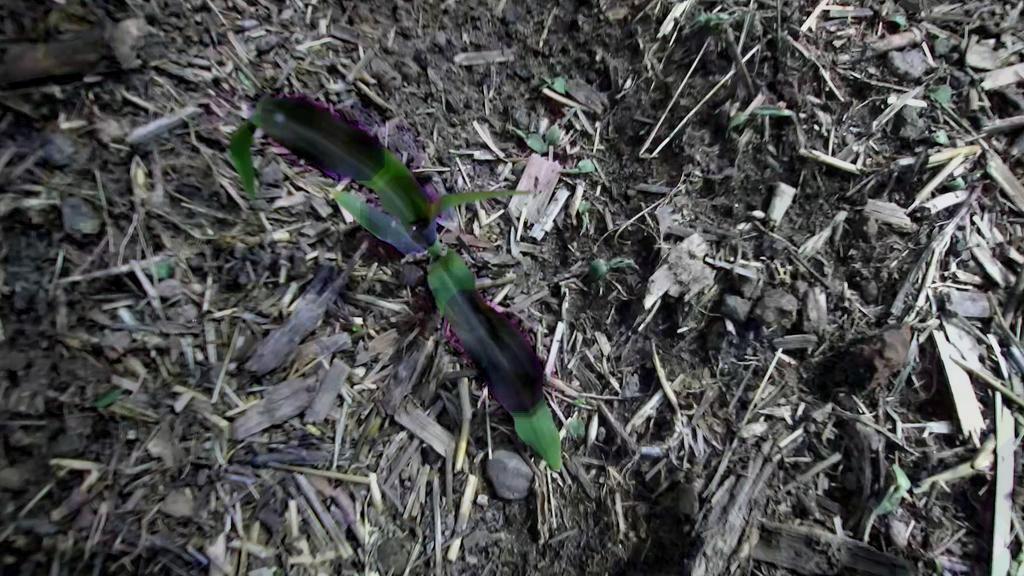BroWeed: (865, 463, 925, 532), (676, 4, 739, 40), (539, 100, 579, 149), (505, 117, 552, 157), (585, 251, 642, 283), (753, 96, 805, 126), (88, 378, 125, 419), (717, 104, 754, 142), (879, 3, 914, 34), (143, 255, 180, 283), (231, 66, 261, 99), (924, 82, 956, 111), (339, 313, 368, 342), (567, 407, 587, 449), (559, 156, 596, 177), (562, 105, 586, 134), (881, 472, 900, 505), (506, 157, 528, 181), (928, 126, 953, 147), (942, 175, 968, 195), (542, 75, 567, 95), (579, 200, 589, 236), (864, 495, 881, 512), (932, 556, 944, 576), (572, 396, 586, 407), (943, 568, 955, 576)
Maize: (203, 3, 684, 505)
